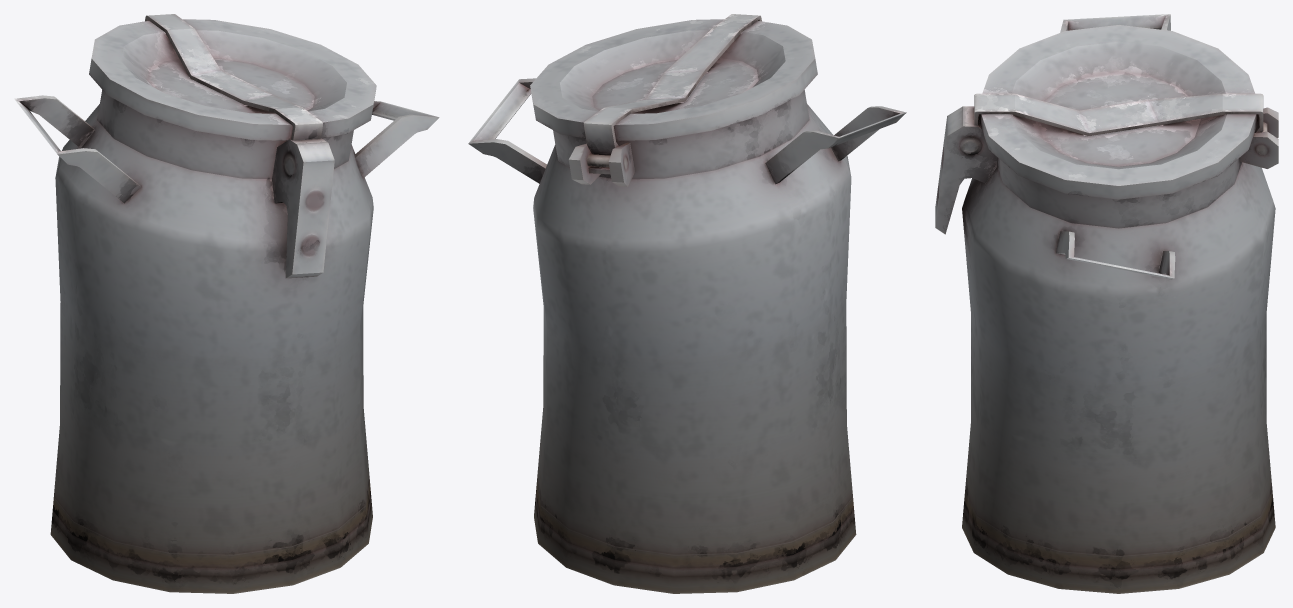
The model's file is BarrelMetallic01.FBX.
3 renders of one model, left to right at view 1: azimuth 30°, elevation 25°; view 2: azimuth 150°, elevation 25°; view 3: azimuth 270°, elevation 25°, orthographic. The views are drawn at different scales.
Visible parts, largest first — view 1: BarrelMetallic01; view 2: BarrelMetallic01; view 3: BarrelMetallic01.
Boxes of the visible parts, x1,y1,x2,y2 form: BarrelMetallic01: [14, 14, 439, 593]; BarrelMetallic01: [468, 14, 906, 593]; BarrelMetallic01: [935, 14, 1278, 593].
Size of what is drawn, in the model's own units: 0.8514 by 0.9958 by 0.6813.
